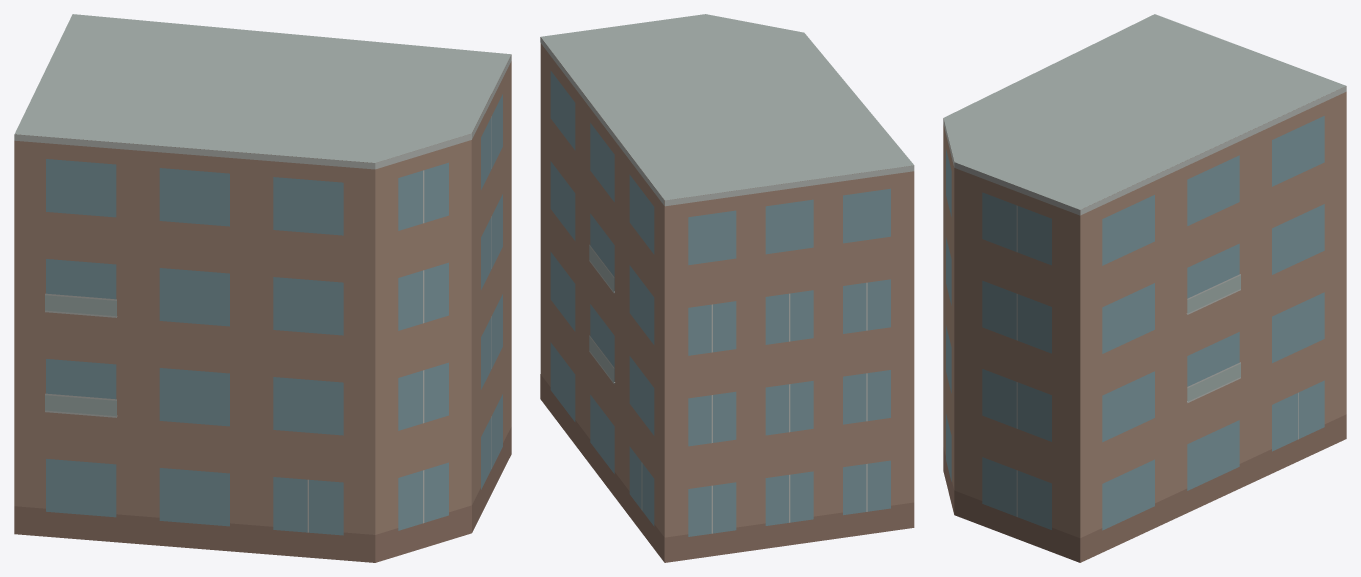
The model's file is survey-upis-32525875.glb.
3 renders of one model, left to right at view 1: azimuth 30°, elevation 25°; view 2: azimuth 150°, elevation 25°; view 3: azimuth 270°, elevation 25°, orthographic. The views are drawn at different scales.
Visible parts, largest first — view 1: survey-upis-32525875.tmp; view 2: survey-upis-32525875.tmp; view 3: survey-upis-32525875.tmp.
Boxes of the visible parts, bbox=[...] form: survey-upis-32525875.tmp: bbox=[14, 14, 511, 562]; survey-upis-32525875.tmp: bbox=[540, 14, 914, 562]; survey-upis-32525875.tmp: bbox=[943, 14, 1346, 562].
Bounding box in the file's own units: 17.98 × 15.1 × 15.64.
